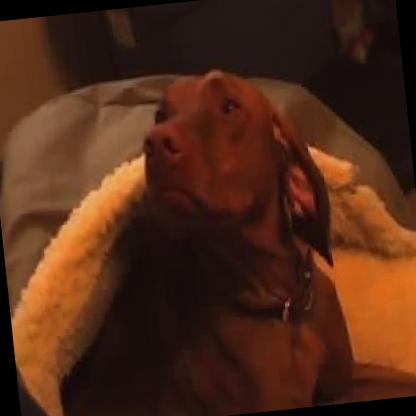vizsla: (25, 56, 362, 416)
